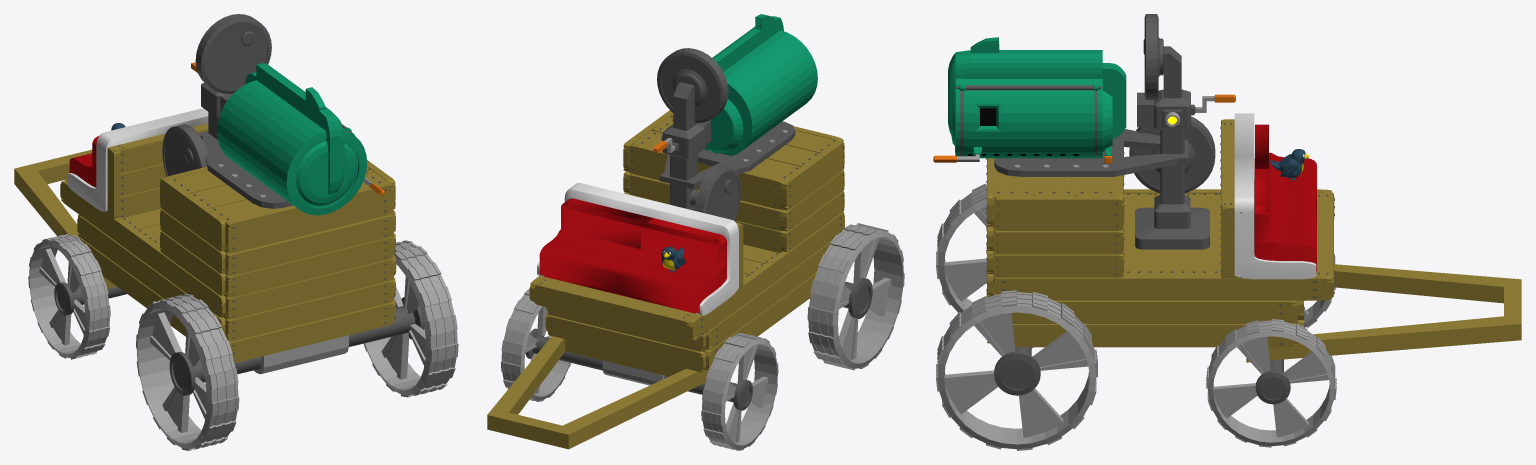
Rendered from CineMovelAnimationModeloAjustes2.glb.
3 renders of one model, left to right at view 1: azimuth 30°, elevation 25°; view 2: azimuth 150°, elevation 25°; view 3: azimuth 270°, elevation 25°, orthographic. The views are drawn at different scales.
Parts seen in each view (by area): view 1: Table, RodaT, Cylinder, RodaF, Film1, Plane, Cube, SuporteCavalo, EixoT, Cube.002, Film1.002, CaixaDeEixoT (+3 smaller); view 2: Table, Estofado, RodaT, RodaF, SuporteCavalo, Cylinder, Cube, Projetor, Film1, Cube.002, Film1.002, Plane (+4 smaller); view 3: Table, RodaT, Cylinder, SuporteCavalo, RodaF, Projetor, Estofado, Plane, Cube, Cube.002, Film1.002, EixoT (+5 smaller).
Part boxes in pixels (bbox=[...]): Table: bbox=[60, 123, 396, 362]; RodaT: bbox=[136, 240, 458, 450]; Cylinder: bbox=[216, 80, 367, 215]; RodaF: bbox=[28, 233, 110, 359]; Film1: bbox=[195, 14, 271, 93]; Plane: bbox=[256, 63, 344, 194]; Cube: bbox=[67, 108, 208, 211]; SuporteCavalo: bbox=[14, 149, 116, 288]; EixoT: bbox=[169, 297, 424, 395]; Cube.002: bbox=[198, 131, 292, 208]; Film1.002: bbox=[162, 124, 208, 176]; CaixaDeEixoT: bbox=[253, 335, 348, 374]; Table: bbox=[529, 110, 844, 372]; Estofado: bbox=[539, 198, 726, 313]; RodaT: bbox=[624, 192, 904, 370]; RodaF: bbox=[501, 288, 778, 450]; SuporteCavalo: bbox=[487, 336, 708, 449]; Cylinder: bbox=[704, 30, 817, 155]; Cube: bbox=[537, 183, 738, 315]; Projetor: bbox=[653, 82, 710, 210]; Film1: bbox=[657, 48, 728, 123]; Cube.002: bbox=[659, 121, 795, 189]; Film1.002: bbox=[689, 165, 741, 220]; Plane: bbox=[712, 14, 783, 69]; Table: bbox=[986, 119, 1334, 347]; RodaT: bbox=[936, 183, 1097, 450]; Cylinder: bbox=[951, 78, 1112, 158]; SuporteCavalo: bbox=[1246, 264, 1521, 362]; RodaF: bbox=[1206, 253, 1336, 447]; Projetor: bbox=[1135, 46, 1235, 249]; Estofado: bbox=[1254, 124, 1316, 272]; Plane: bbox=[948, 37, 1102, 134]; Cube: bbox=[1234, 113, 1316, 279]; Cube.002: bbox=[994, 129, 1188, 176]; Film1.002: bbox=[1129, 116, 1215, 192]; EixoT: bbox=[994, 346, 1040, 395].
Size of the model in its own units: 2.06 by 2.77 by 3.99.
